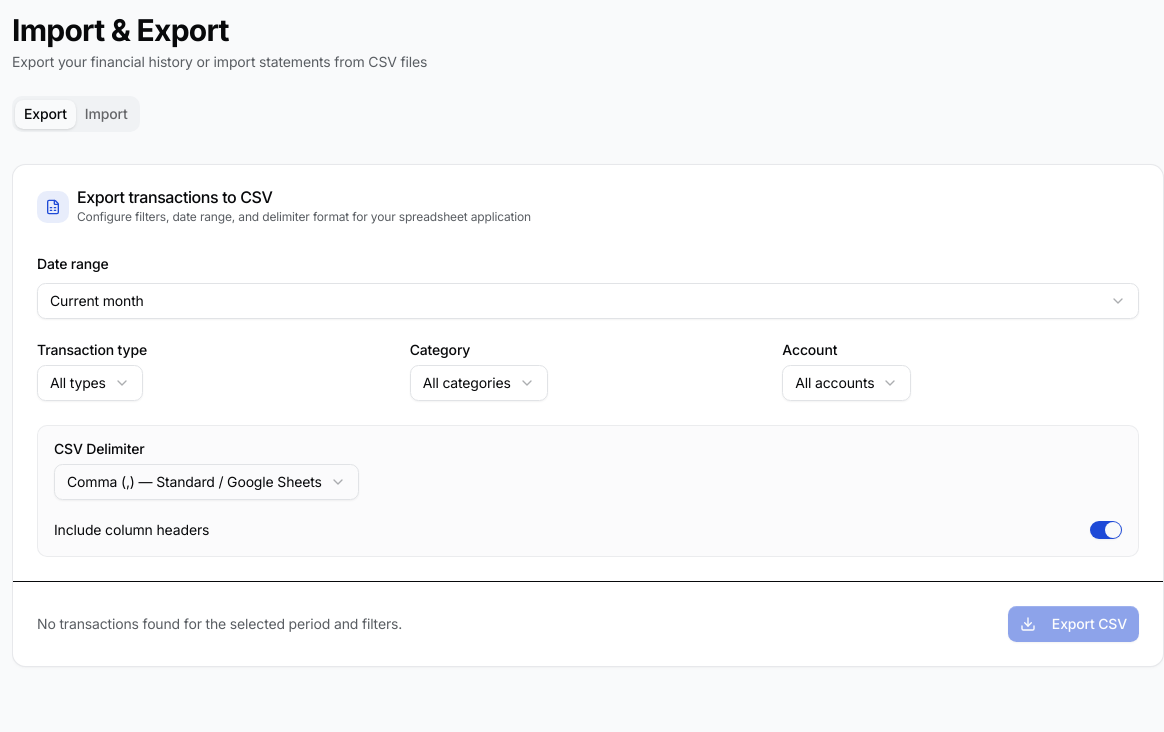
ImportExportPage › switches to Import tab and displays ImportCard upload step
The image size is (1164, 732).
Click the tab with test id "tab-import" at (106, 114), box [76,100,137,128]
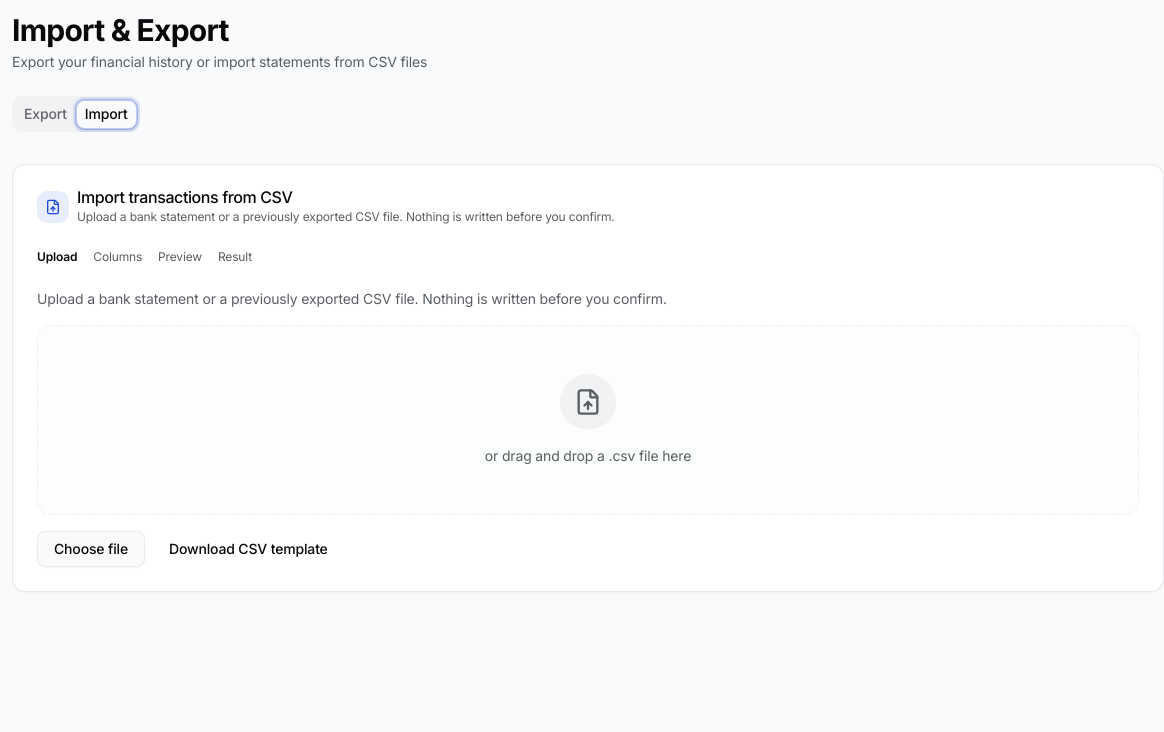
Expected: the element with test id "import-card" is shown, [12,164,1163,592]
